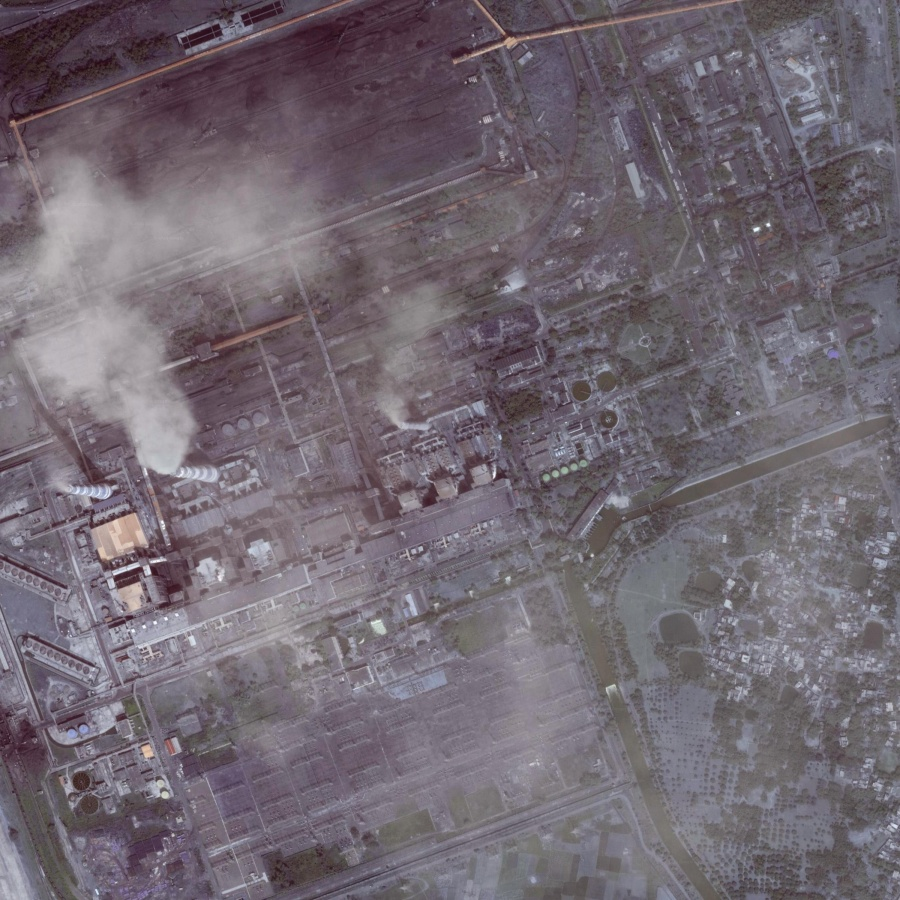PowerPlant: (15, 345, 499, 656)
